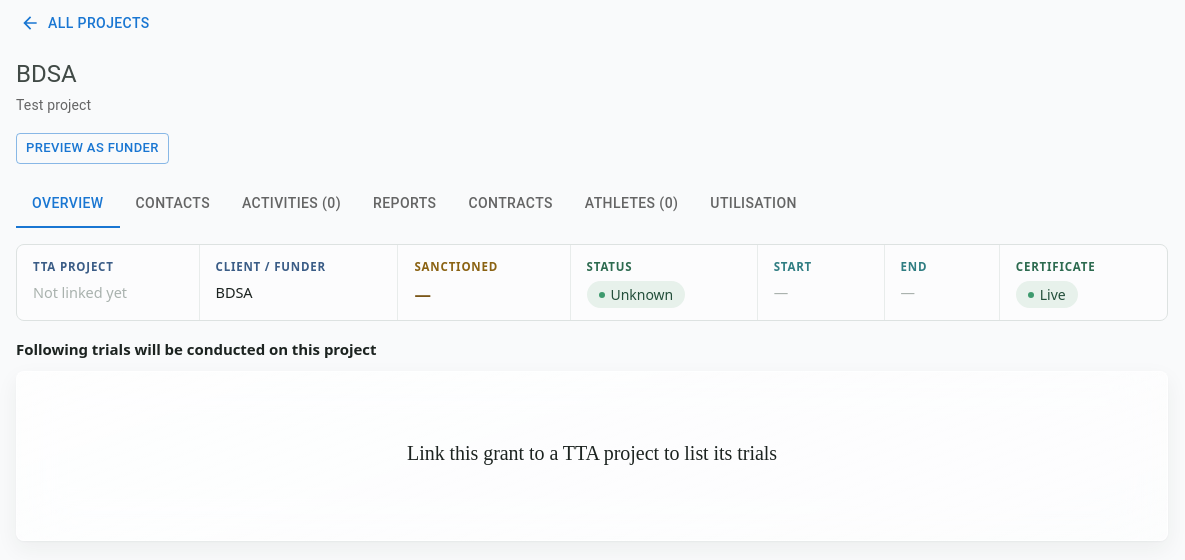
failed reports and contacts lists say so too
Check: the heading "BDSA" is shown, box [16,60,77,88]
Click the tab "Contacts" at x=173, y=204, box [120,180,226,228]
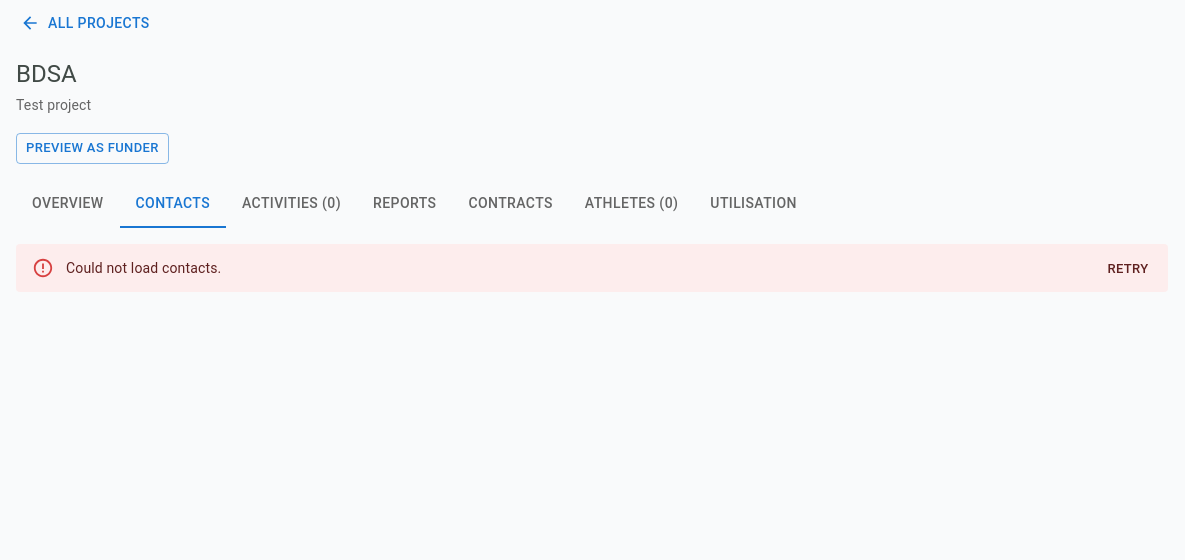
Check: the text "Could not load contacts." is shown, box [66,260,221,276]
Click the tab "Reports" at x=405, y=204, box [357,180,452,228]
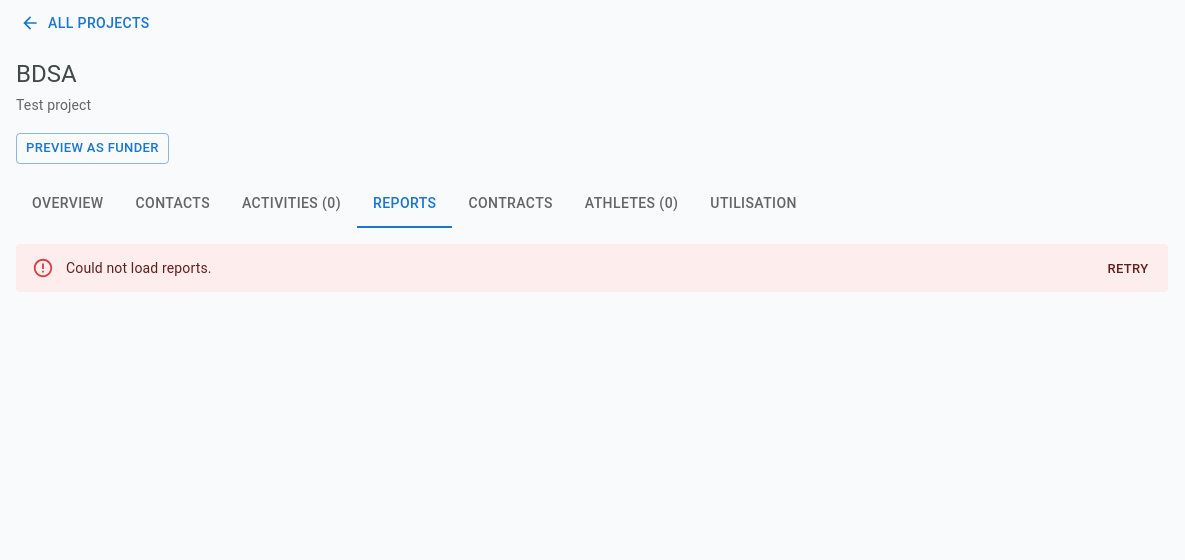
Check: the text "Could not load reports." is shown, box [66,260,212,276]
